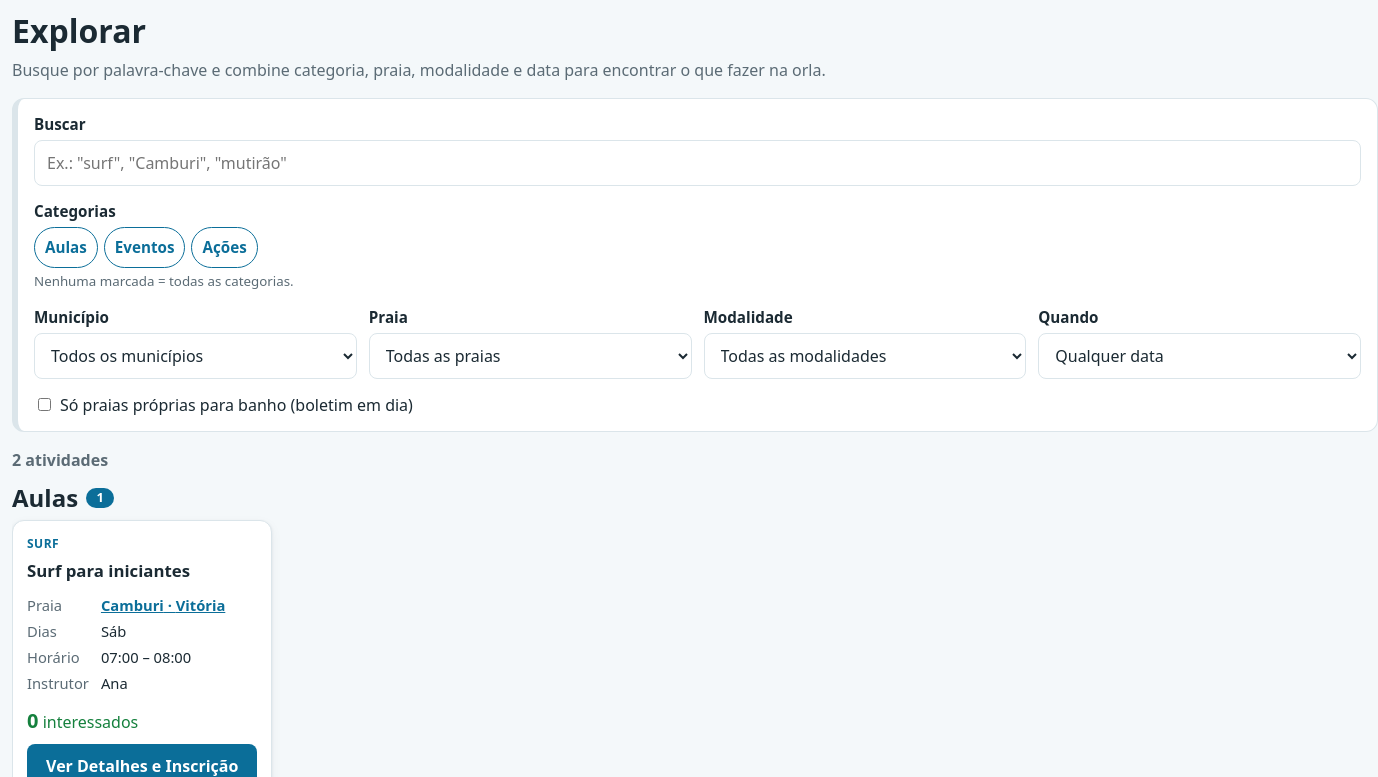
Test case: ExplorarPage › filtra por modalidade e avisa que ações ficam de fora
Select "Futevôlei" in the dropdown labelled "Modalidade" at {"x": 865, "y": 356}, box [704,333,1026,379]
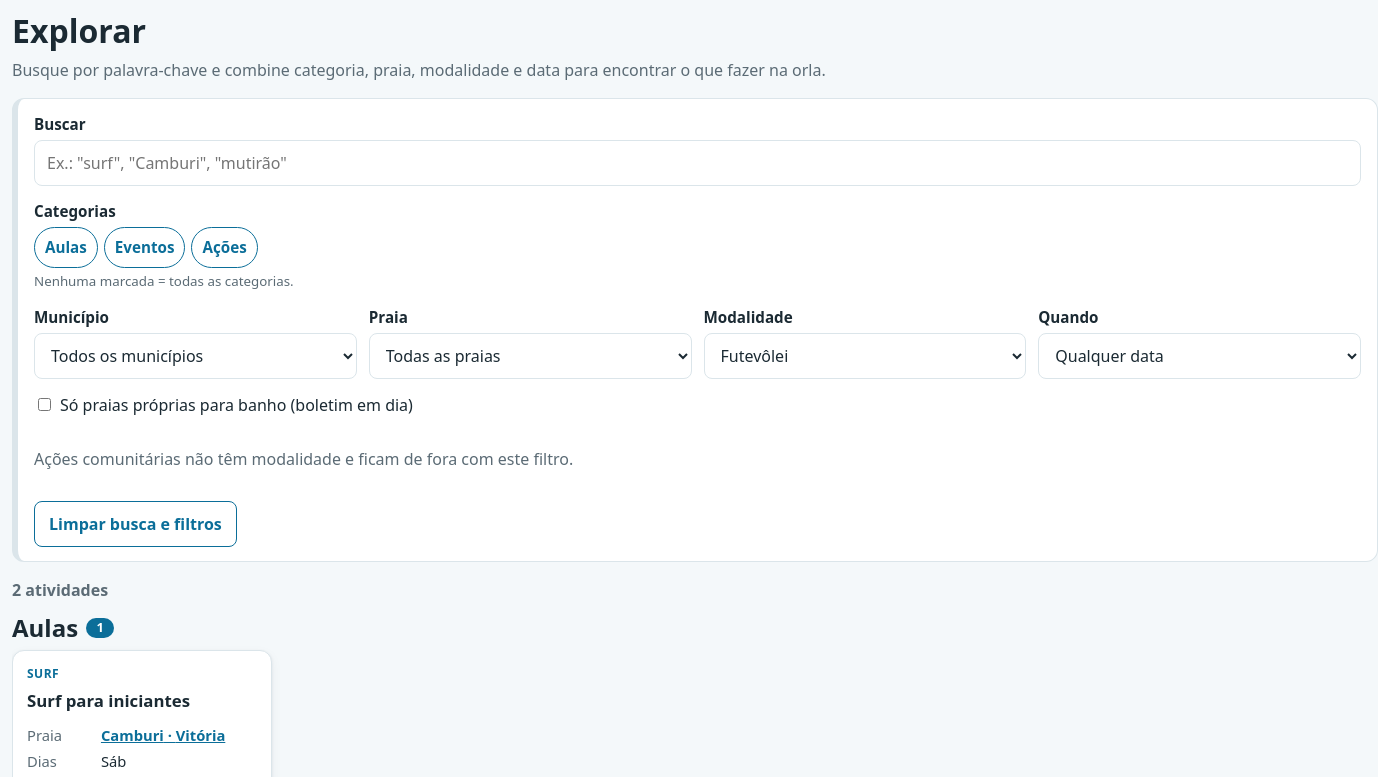
expect the text "Ações comunitárias não têm modalidade" is shown: met, box [34,448,573,470]
